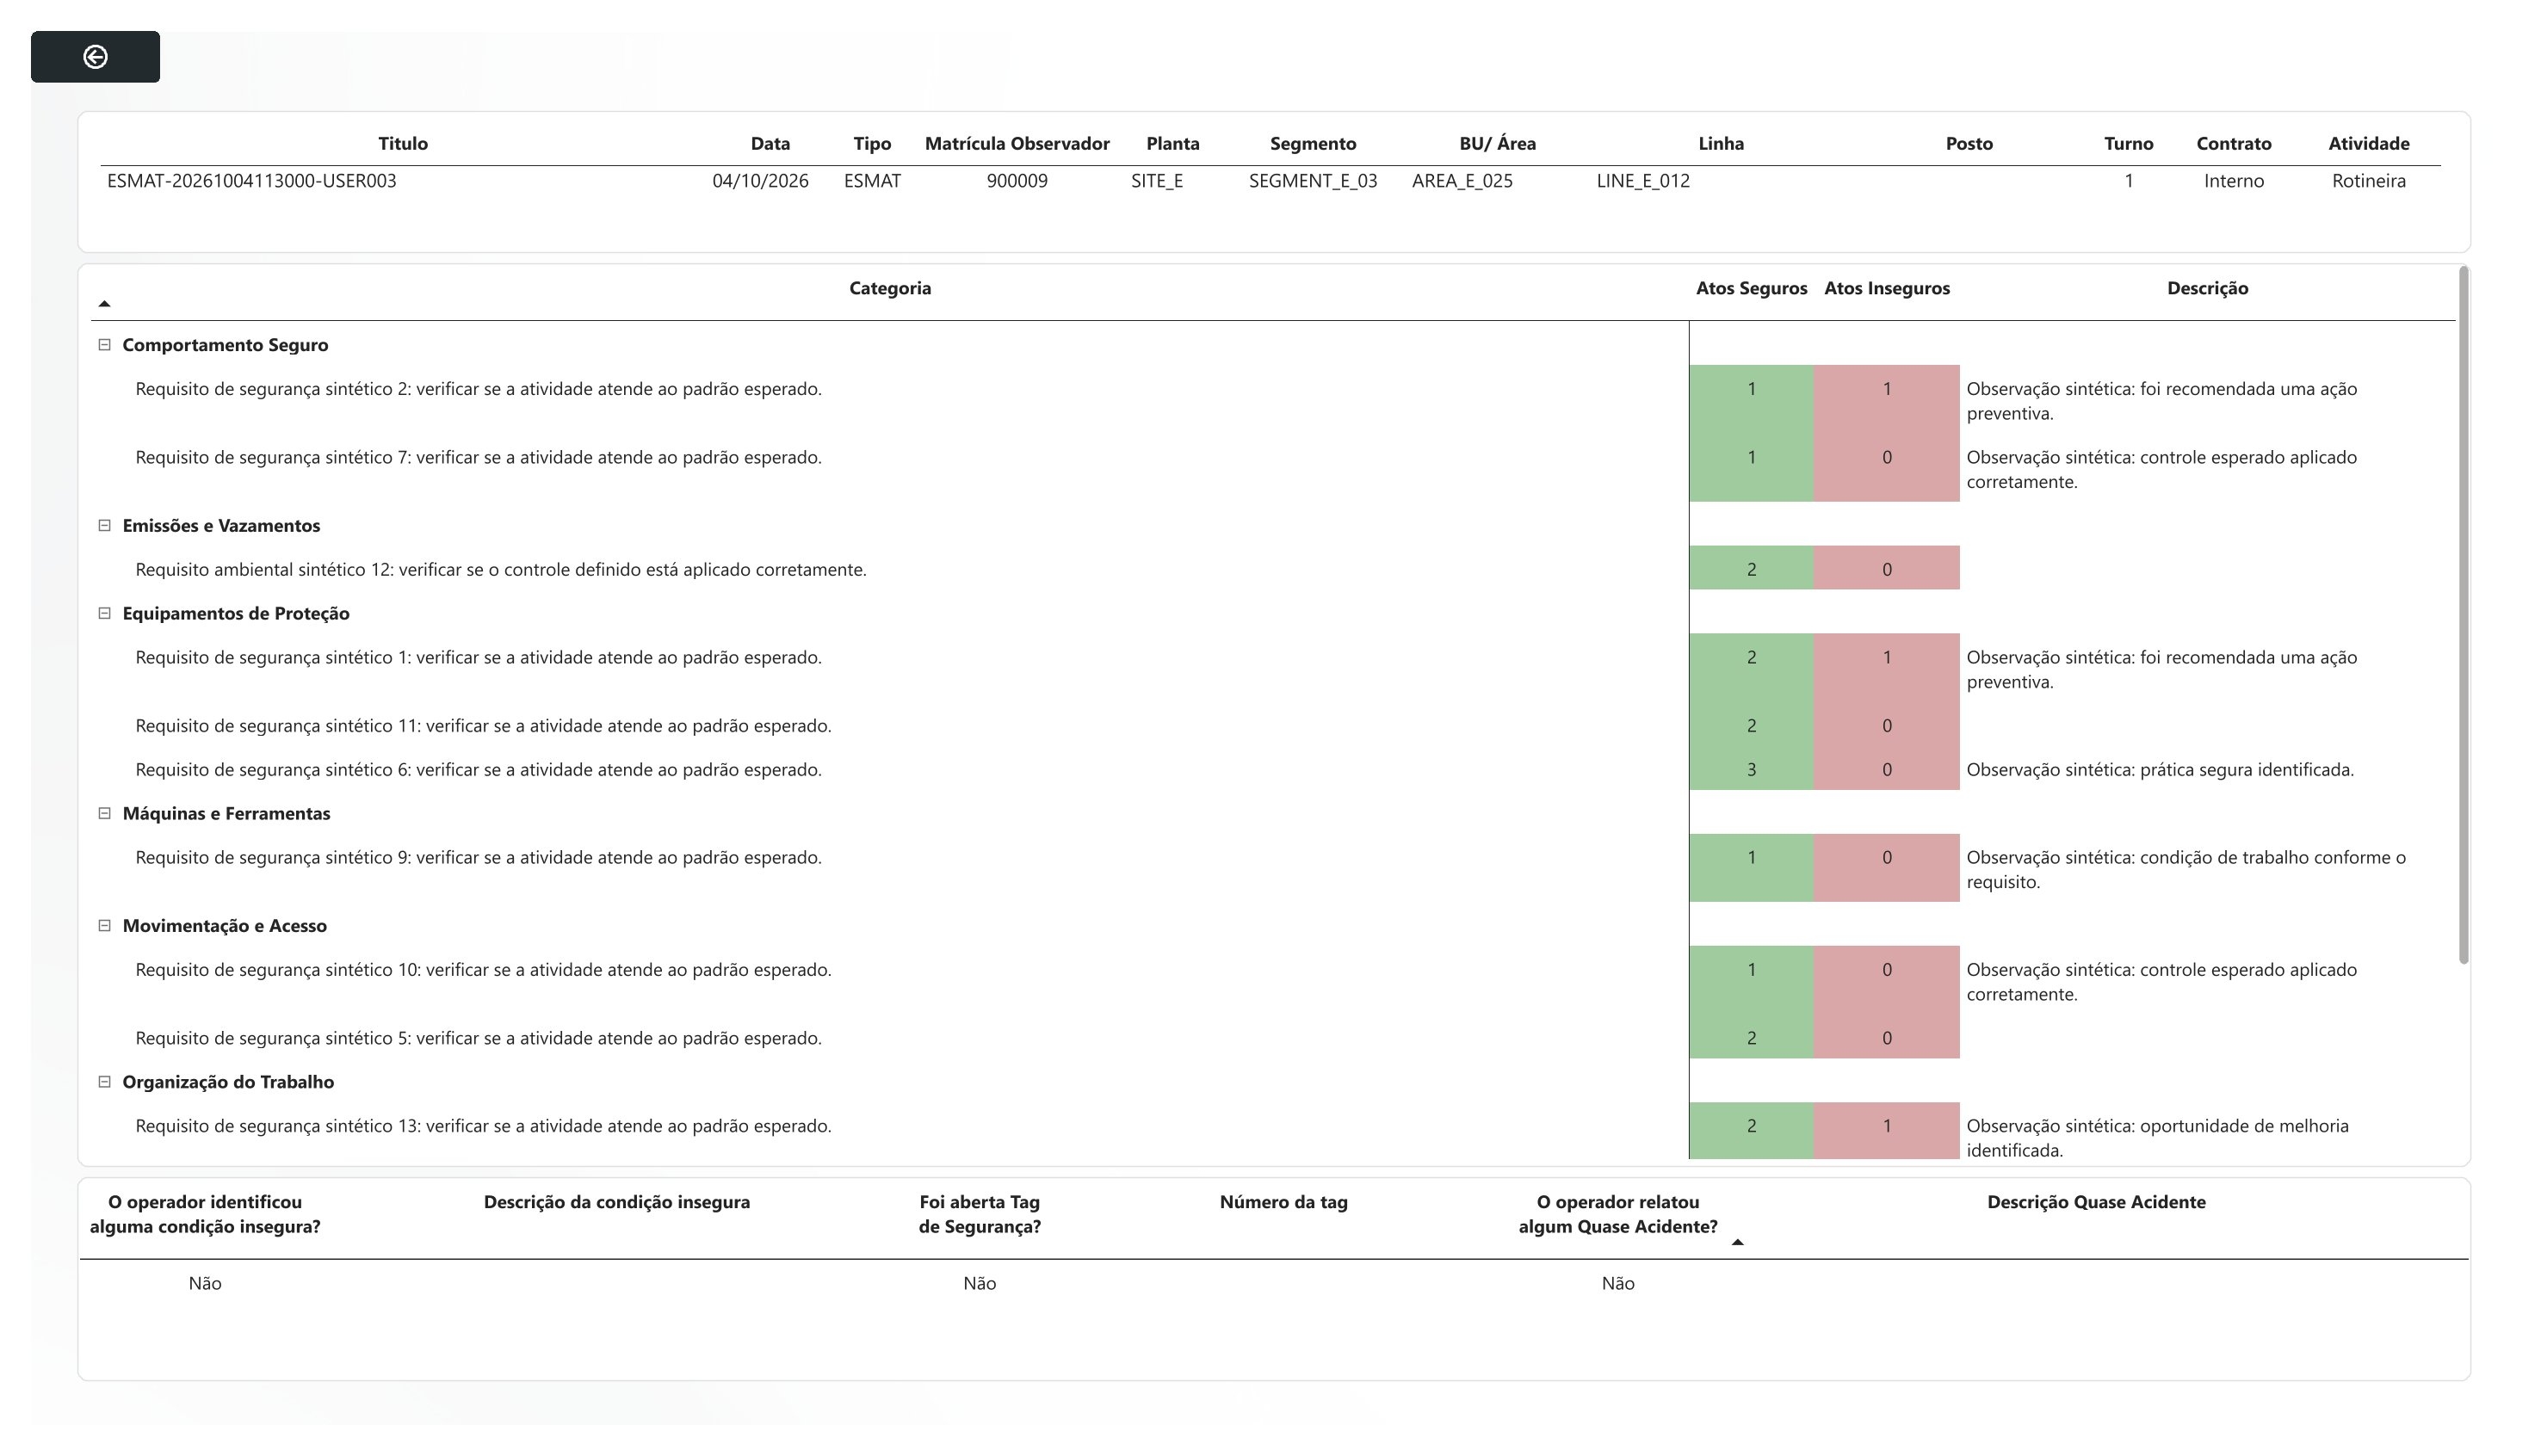

The dashboard page shown, as its layout file describes it:
{"tool":"powerbi","page":{"name":"DT_Registro","canvas":[1920,1080],"ordinal":6},"visuals":[{"type":"pivotTable","fields":{"Rows":["d_questionario.Nome_categoria","d_questionario.Dsc_Questao"],"Values":["Sum(f_formulario.SA_SafeAct)","Sum(f_formulario.UA_UnsafeAct)","Min(f_formulario.Descricao)"]},"box":[36,180,1854,700],"z":0},{"type":"actionButton","box":[0,0,100,40],"z":1000},{"type":"tableEx","fields":{"Values":["d_cabecalho.Titulo","d_cabecalho.Data","d_cabecalho.Tipo","d_cabecalho.MatriculaObservador","d_cabecalho.Planta","d_cabecalho.Segmento","d_cabecalho.BUarea","d_cabecalho.Linha","d_cabecalho.Posto","d_cabecalho.Turno","d_cabecalho.TipoContrato","d_cabecalho.TipoAtividade"]},"box":[36,62,1854,110],"z":2000},{"type":"tableEx","fields":{"Values":["d_cabecalho.OptCondicaoInsegura","d_cabecalho.DscCondicaoInsegura","d_cabecalho.TagAberta","d_cabecalho.NumeroTag","d_cabecalho.OptQuaseAcidente","d_cabecalho.DscQuaseAcidente"]},"box":[36,888,1854,158],"z":3000}]}

Visuals, with their boxes in screenshot pixels (x1, y1, x2, y2), scaled from the page's 1920x1080 canvas onto the 2541x1456 screenshot:
pivotTable - d_questionario.Nome_categoria x d_questionario.Dsc_Questao: [47, 243, 2501, 1187]
actionButton: [0, 0, 133, 54]
tableEx - d_cabecalho.Titulo x d_cabecalho.Data: [47, 83, 2501, 231]
tableEx - d_cabecalho.OptCondicaoInsegura x d_cabecalho.DscCondicaoInsegura: [47, 1197, 2501, 1410]
